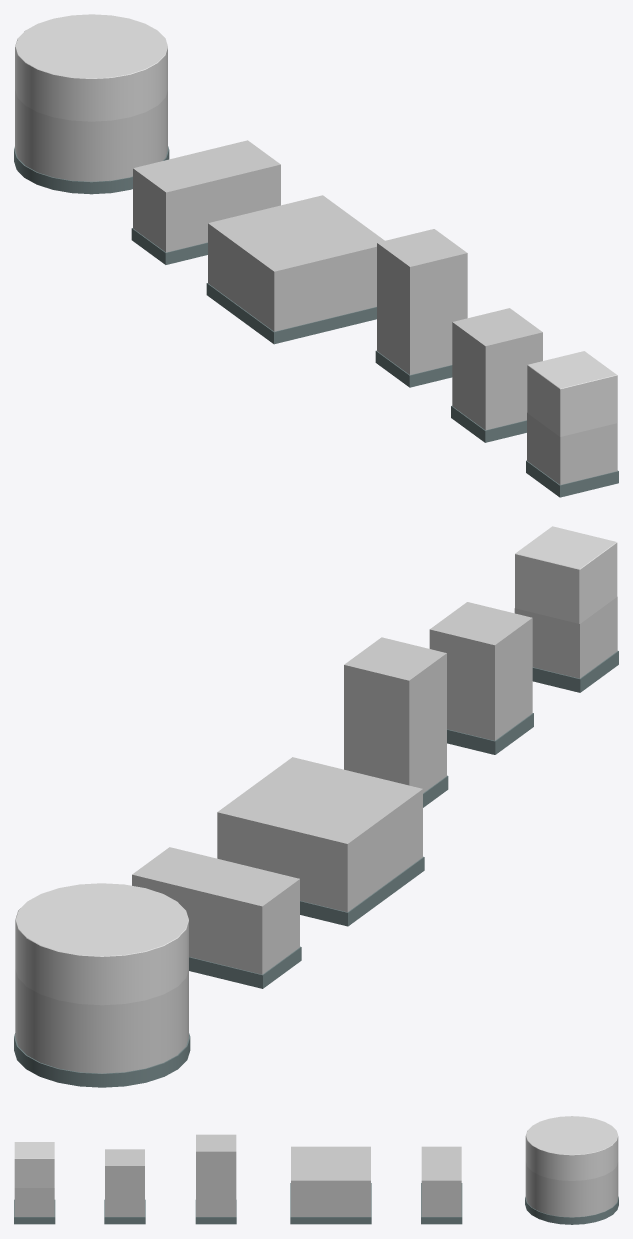
Rendered from stand.fbx.
The picture shows the model from 3 angles, top to bottom: view 1: azimuth 30°, elevation 25°; view 2: azimuth 150°, elevation 25°; view 3: azimuth 270°, elevation 25°; orthographic projection. The views are drawn at different scales.
Visible parts, largest first — view 1: stand_4, stand_glass_2, stand_5, stand_3, stand_6, stand_2, stand_glass, stand_1; view 2: stand_4, stand_glass_2, stand_5, stand_6, stand_3, stand_2, stand_glass, stand_1; view 3: stand_4, stand_glass_2, stand_6, stand_3, stand_5, stand_2, stand_glass, stand_1.
Part boxes in pixels (left/top/right/bottom): stand_4: left=206, top=195, right=384, bottom=344; stand_glass_2: left=15, top=14, right=167, bottom=121; stand_5: left=131, top=140, right=280, bottom=264; stand_3: left=375, top=229, right=467, bottom=387; stand_6: left=14, top=90, right=169, bottom=194; stand_2: left=451, top=308, right=542, bottom=442; stand_glass: left=527, top=351, right=617, bottom=436; stand_1: left=526, top=413, right=618, bottom=497; stand_4: left=217, top=757, right=424, bottom=926; stand_glass_2: left=15, top=883, right=188, bottom=1005; stand_5: left=132, top=847, right=301, bottom=988; stand_6: left=14, top=969, right=190, bottom=1087; stand_3: left=344, top=637, right=448, bottom=807; stand_2: left=429, top=602, right=533, bottom=754; stand_glass: left=515, top=526, right=617, bottom=623; stand_1: left=514, top=596, right=618, bottom=692; stand_4: left=290, top=1146, right=371, bottom=1224; stand_glass_2: left=525, top=1116, right=618, bottom=1180; stand_6: left=525, top=1162, right=618, bottom=1224; stand_3: left=195, top=1134, right=236, bottom=1224; stand_5: left=421, top=1146, right=462, bottom=1224; stand_2: left=104, top=1149, right=145, bottom=1224; stand_glass: left=14, top=1142, right=54, bottom=1187; stand_1: left=14, top=1188, right=55, bottom=1224.
Size of the model in its own units: 1.17 by 1 by 7.55.
